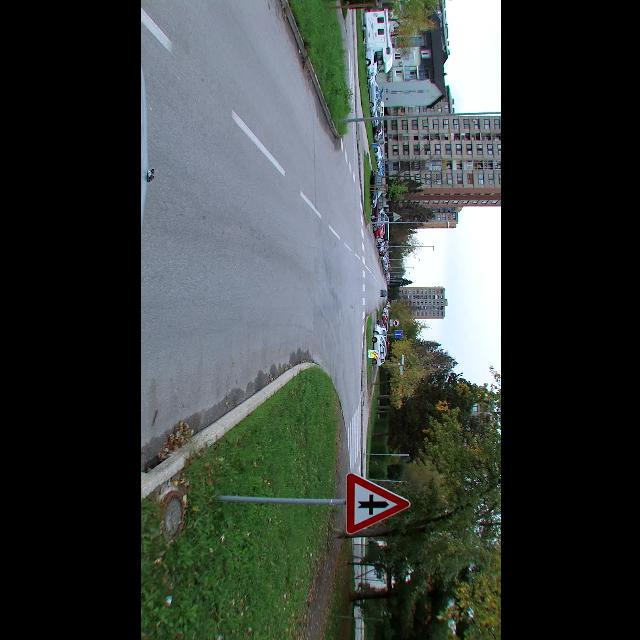Rectangle: (393, 330, 403, 340)
Round: (392, 320, 400, 326)
Triangle: (344, 473, 412, 535)
